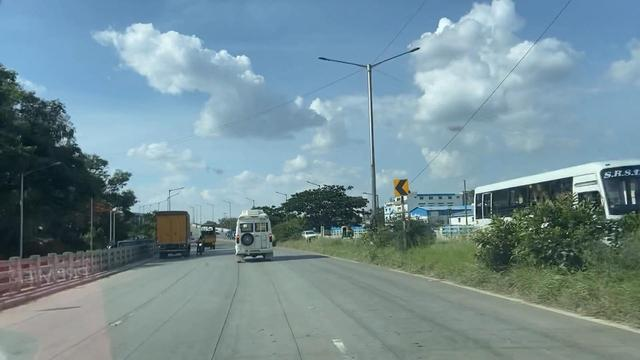HMV: (236, 210, 277, 262), (157, 207, 192, 257)
